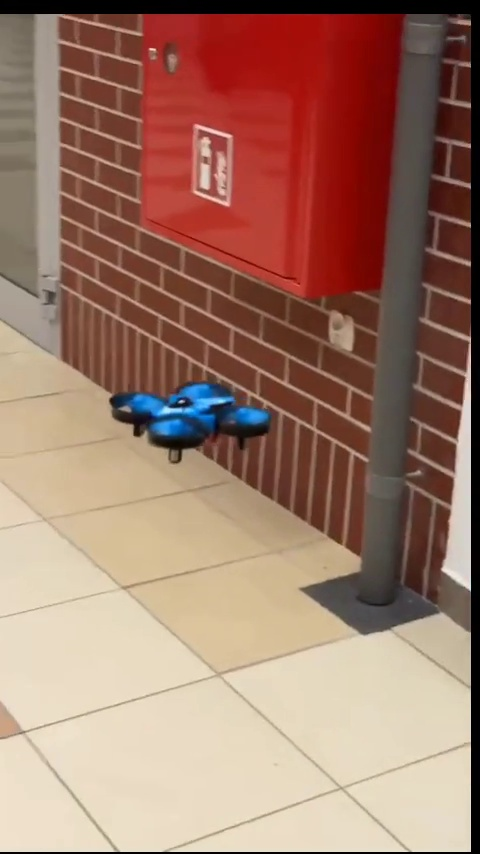drone: (108, 379, 269, 462)
